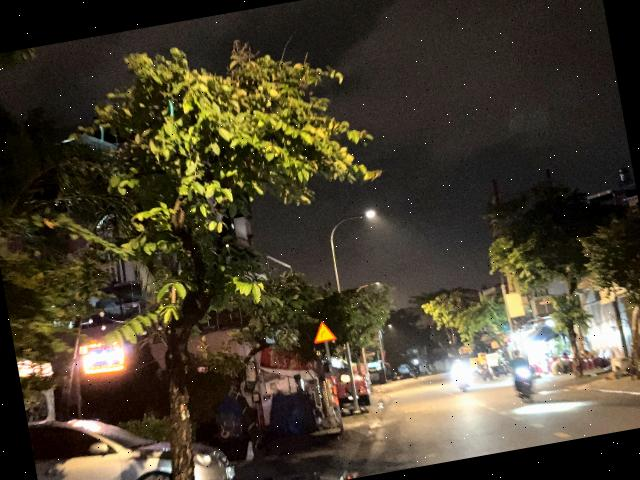cho-ngoat-nguy-hiem-ben-trai: (310, 318, 337, 344)
